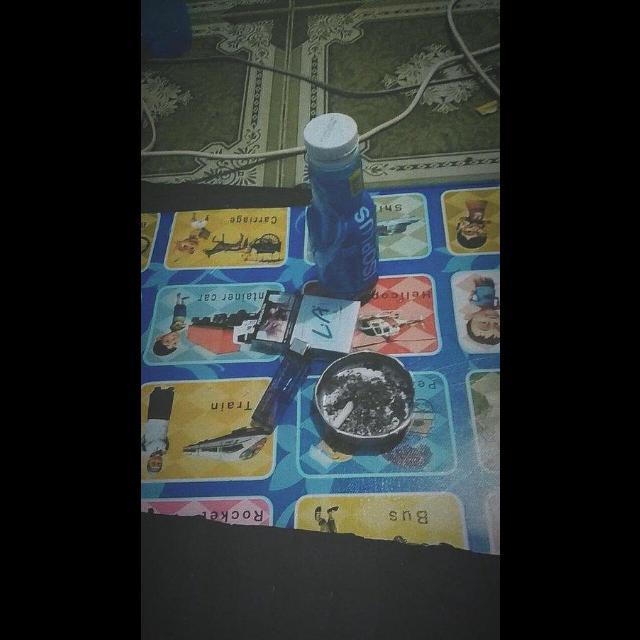rokok: (330, 398, 354, 429)
